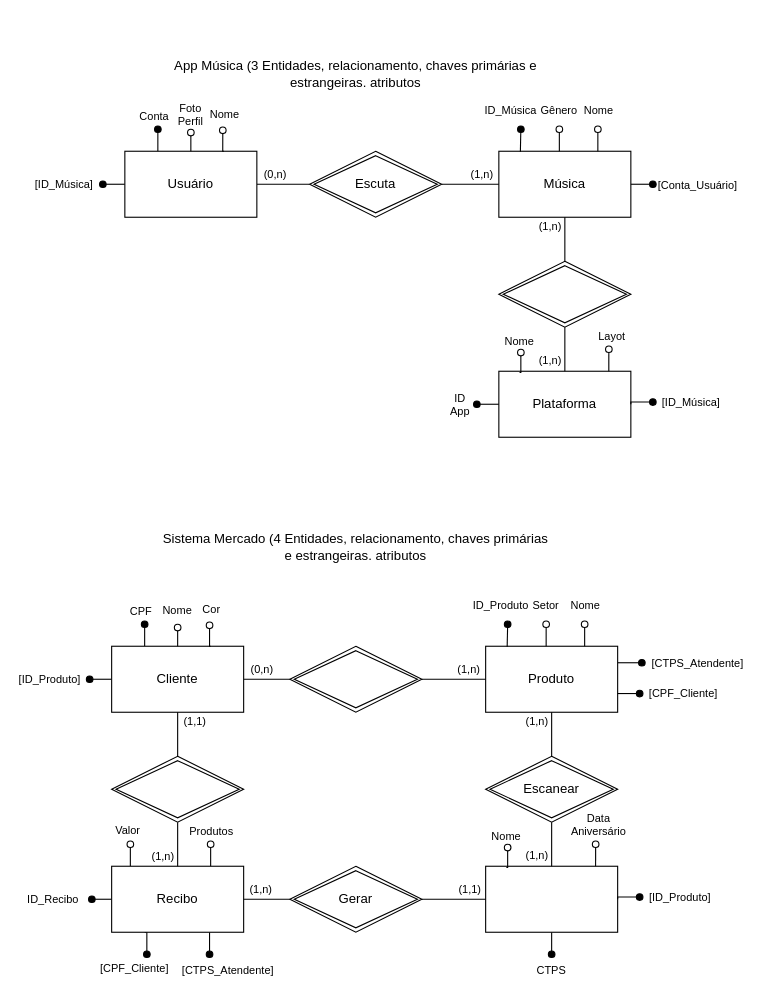
Some shapes in this 762 by 996 pixel diagram are drawn without their labels. Each missing label, with the box of its shape:
Atendente: (485, 865, 618, 932)
Comprar: (289, 645, 422, 712)
Pegar: (111, 755, 244, 822)
Tocar: (498, 260, 631, 327)
